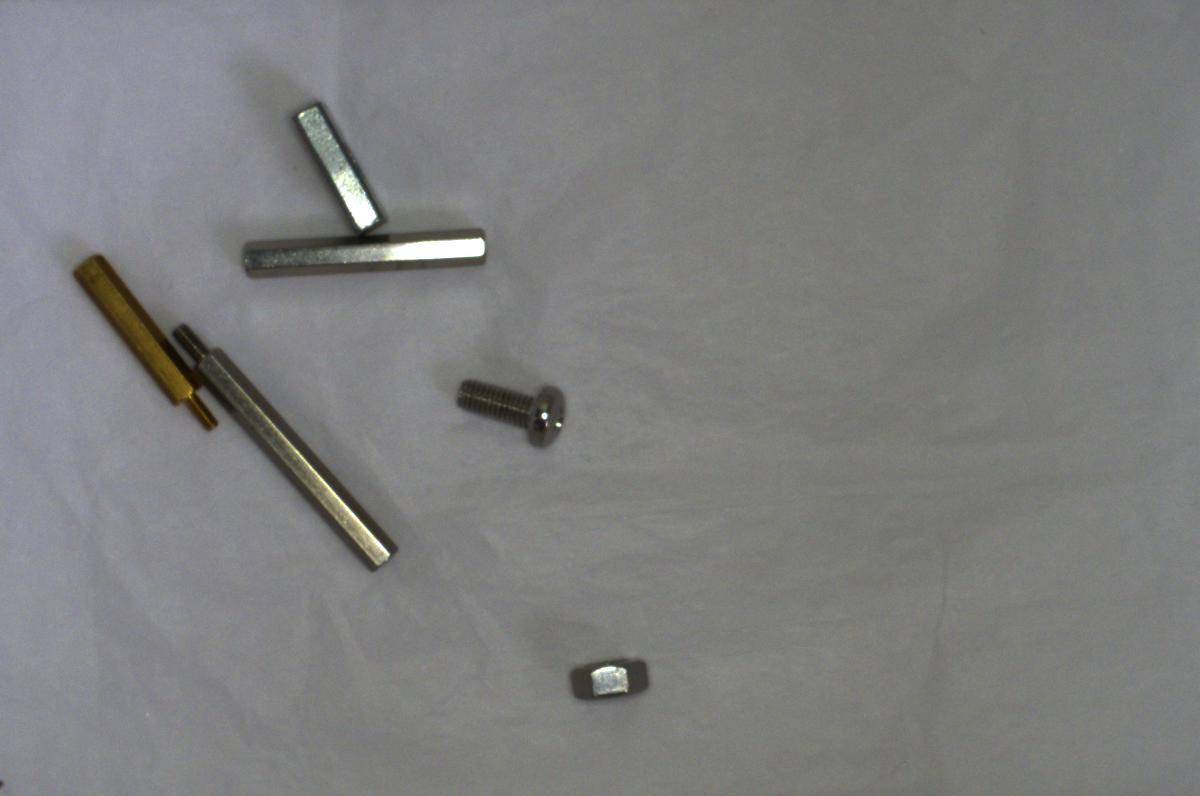Double hexagonal column: (234, 223, 493, 280)
Hexagon nut: (555, 646, 661, 709)
Hexagon pillar: (62, 248, 224, 441)
Hexagonal steel column: (165, 314, 410, 575)
Rectangular nut: (293, 96, 384, 230)
Round head screw: (440, 372, 590, 450)
